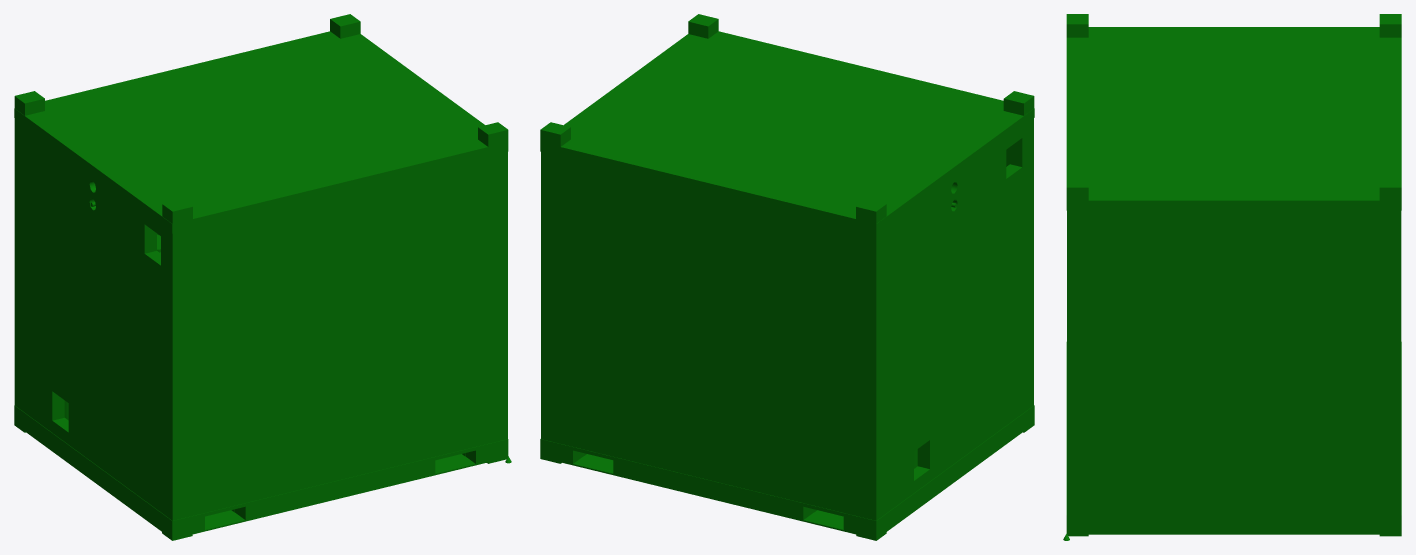
Rendered from Image-1711348128332-2280937043888_64-VX50.fbx.
3 views of the same model, side by side, from view 1: azimuth 30°, elevation 25°; view 2: azimuth 150°, elevation 25°; view 3: azimuth 270°, elevation 25° (orthographic). The views are drawn at different scales.
Visible parts, largest first — view 1: BOX 1 of SUBEQUIPMENT /64-VX50_NORTH_WALL, BOX 1 of SUBEQUIPMENT /64-VX50_ROOF, BOX 1 of SUBEQUIPMENT /64-VX50_EAST_WALL, BOX 7 of SUBEQUIPMENT /64-VX50_FRAME, BOX 8 of SUBEQUIPMENT /64-VX50_FRAME, BOX 1 of SUBEQUIPMENT /64-VX50_WEST_WALL, BOX 17 of SUBEQUIPMENT /64-VX50_FRAME, BOX 18 of SUBEQUIPMENT /64-VX50_FRAME, BOX 15 of SUBEQUIPMENT /64-VX50_FRAME, BOX 16 of SUBEQUIPMENT /64-VX50_FRAME; view 2: BOX 1 of SUBEQUIPMENT /64-VX50_SOUTH_WALL, BOX 1 of SUBEQUIPMENT /64-VX50_ROOF, BOX 1 of SUBEQUIPMENT /64-VX50_EAST_WALL, BOX 10 of SUBEQUIPMENT /64-VX50_FRAME, BOX 1 of SUBEQUIPMENT /64-VX50_WEST_WALL, BOX 8 of SUBEQUIPMENT /64-VX50_FRAME, BOX 15 of SUBEQUIPMENT /64-VX50_FRAME, BOX 16 of SUBEQUIPMENT /64-VX50_FRAME, BOX 17 of SUBEQUIPMENT /64-VX50_FRAME, BOX 18 of SUBEQUIPMENT /64-VX50_FRAME; view 3: BOX 1 of SUBEQUIPMENT /64-VX50_WEST_WALL, BOX 1 of SUBEQUIPMENT /64-VX50_ROOF, BOX 9 of SUBEQUIPMENT /64-VX50_FRAME, BOX 1 of SUBEQUIPMENT /64-VX50_SOUTH_WALL, BOX 1 of SUBEQUIPMENT /64-VX50_NORTH_WALL, BOX 16 of SUBEQUIPMENT /64-VX50_FRAME, BOX 18 of SUBEQUIPMENT /64-VX50_FRAME, BOX 15 of SUBEQUIPMENT /64-VX50_FRAME, BOX 17 of SUBEQUIPMENT /64-VX50_FRAME.
Part boxes in pixels (box(x1,y1,x2,y2)): BOX 1 of SUBEQUIPMENT /64-VX50_NORTH_WALL: box(185, 151, 507, 517); BOX 1 of SUBEQUIPMENT /64-VX50_ROOF: box(14, 31, 508, 233); BOX 1 of SUBEQUIPMENT /64-VX50_EAST_WALL: box(14, 118, 184, 520); BOX 7 of SUBEQUIPMENT /64-VX50_FRAME: box(162, 439, 508, 539); BOX 8 of SUBEQUIPMENT /64-VX50_FRAME: box(14, 405, 189, 531); BOX 1 of SUBEQUIPMENT /64-VX50_WEST_WALL: box(495, 155, 507, 441); BOX 17 of SUBEQUIPMENT /64-VX50_FRAME: box(162, 199, 192, 228); BOX 18 of SUBEQUIPMENT /64-VX50_FRAME: box(478, 122, 508, 147); BOX 15 of SUBEQUIPMENT /64-VX50_FRAME: box(14, 91, 44, 115); BOX 16 of SUBEQUIPMENT /64-VX50_FRAME: box(330, 14, 360, 38); BOX 1 of SUBEQUIPMENT /64-VX50_SOUTH_WALL: box(553, 154, 876, 519); BOX 1 of SUBEQUIPMENT /64-VX50_ROOF: box(540, 31, 1034, 233); BOX 1 of SUBEQUIPMENT /64-VX50_EAST_WALL: box(864, 118, 1033, 520); BOX 10 of SUBEQUIPMENT /64-VX50_FRAME: box(540, 439, 886, 539); BOX 1 of SUBEQUIPMENT /64-VX50_WEST_WALL: box(541, 151, 553, 441); BOX 8 of SUBEQUIPMENT /64-VX50_FRAME: box(858, 406, 1033, 538); BOX 15 of SUBEQUIPMENT /64-VX50_FRAME: box(856, 199, 886, 228); BOX 16 of SUBEQUIPMENT /64-VX50_FRAME: box(540, 122, 570, 151); BOX 17 of SUBEQUIPMENT /64-VX50_FRAME: box(1003, 91, 1034, 115); BOX 18 of SUBEQUIPMENT /64-VX50_FRAME: box(688, 14, 718, 38); BOX 1 of SUBEQUIPMENT /64-VX50_WEST_WALL: box(1067, 210, 1401, 515); BOX 1 of SUBEQUIPMENT /64-VX50_ROOF: box(1066, 27, 1401, 210); BOX 9 of SUBEQUIPMENT /64-VX50_FRAME: box(1066, 506, 1401, 534); BOX 1 of SUBEQUIPMENT /64-VX50_SOUTH_WALL: box(1386, 210, 1401, 515); BOX 1 of SUBEQUIPMENT /64-VX50_NORTH_WALL: box(1067, 210, 1082, 515); BOX 16 of SUBEQUIPMENT /64-VX50_FRAME: box(1379, 177, 1401, 205); BOX 18 of SUBEQUIPMENT /64-VX50_FRAME: box(1066, 177, 1088, 206); BOX 15 of SUBEQUIPMENT /64-VX50_FRAME: box(1379, 14, 1401, 37); BOX 17 of SUBEQUIPMENT /64-VX50_FRAME: box(1066, 14, 1088, 37).
Size of the model in its own units: 3.03 by 2.46 by 2.83.
